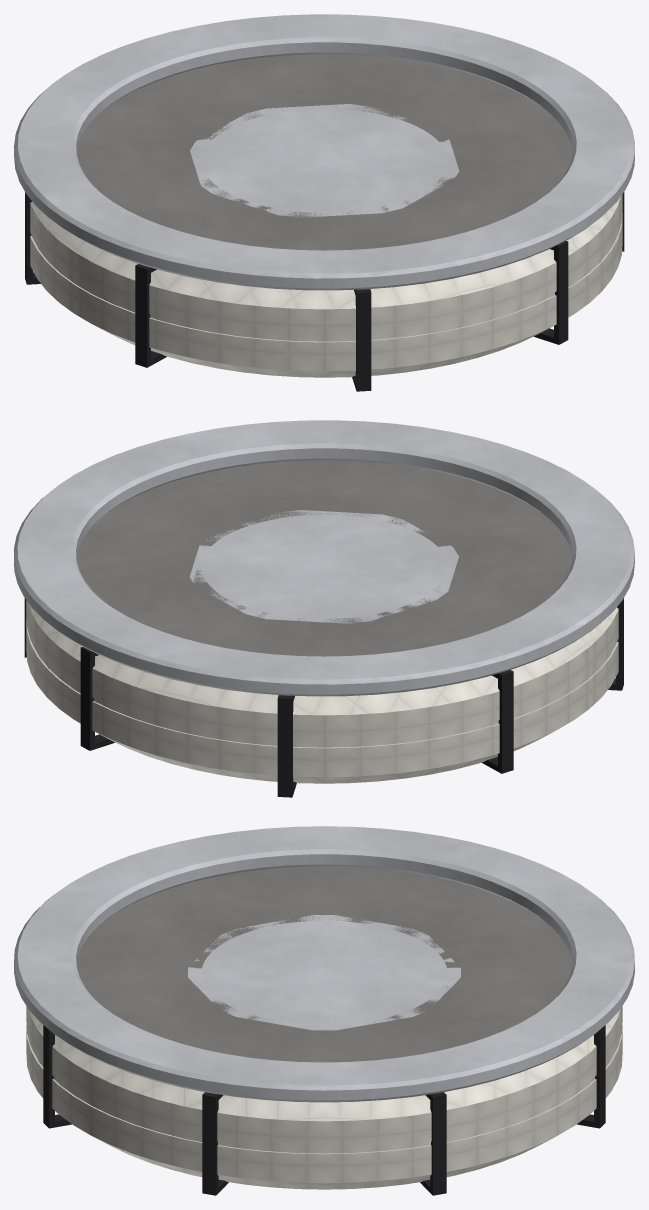
File: ax_cmd_16_hiad_xl.glb
The picture shows the model from 3 angles, top to bottom: view 1: azimuth 30°, elevation 25°; view 2: azimuth 150°, elevation 25°; view 3: azimuth 270°, elevation 25°; orthographic projection.
Visible parts, largest first — view 1: interface_ring, payload_deck, stowed_pack, centre_body, pack_straps; view 2: interface_ring, payload_deck, stowed_pack, centre_body, pack_straps; view 3: interface_ring, payload_deck, stowed_pack, centre_body, pack_straps.
Part boxes in pixels (<box>): interface_ring: <box>14,14,634,290</box>; payload_deck: <box>76,54,572,250</box>; stowed_pack: <box>30,194,622,377</box>; centre_body: <box>190,104,459,217</box>; pack_straps: <box>25,192,624,391</box>; interface_ring: <box>14,420,634,696</box>; payload_deck: <box>76,460,572,656</box>; stowed_pack: <box>26,600,618,783</box>; centre_body: <box>189,510,458,623</box>; pack_straps: <box>24,598,623,797</box>; interface_ring: <box>14,826,634,1102</box>; payload_deck: <box>76,866,572,1062</box>; stowed_pack: <box>26,1006,622,1189</box>; centre_body: <box>188,915,460,1030</box>; pack_straps: <box>43,1025,605,1195</box>.
Size of the model in its own units: 5 by 1.24 by 5.
Materials: 5 (4 with a texture image).
